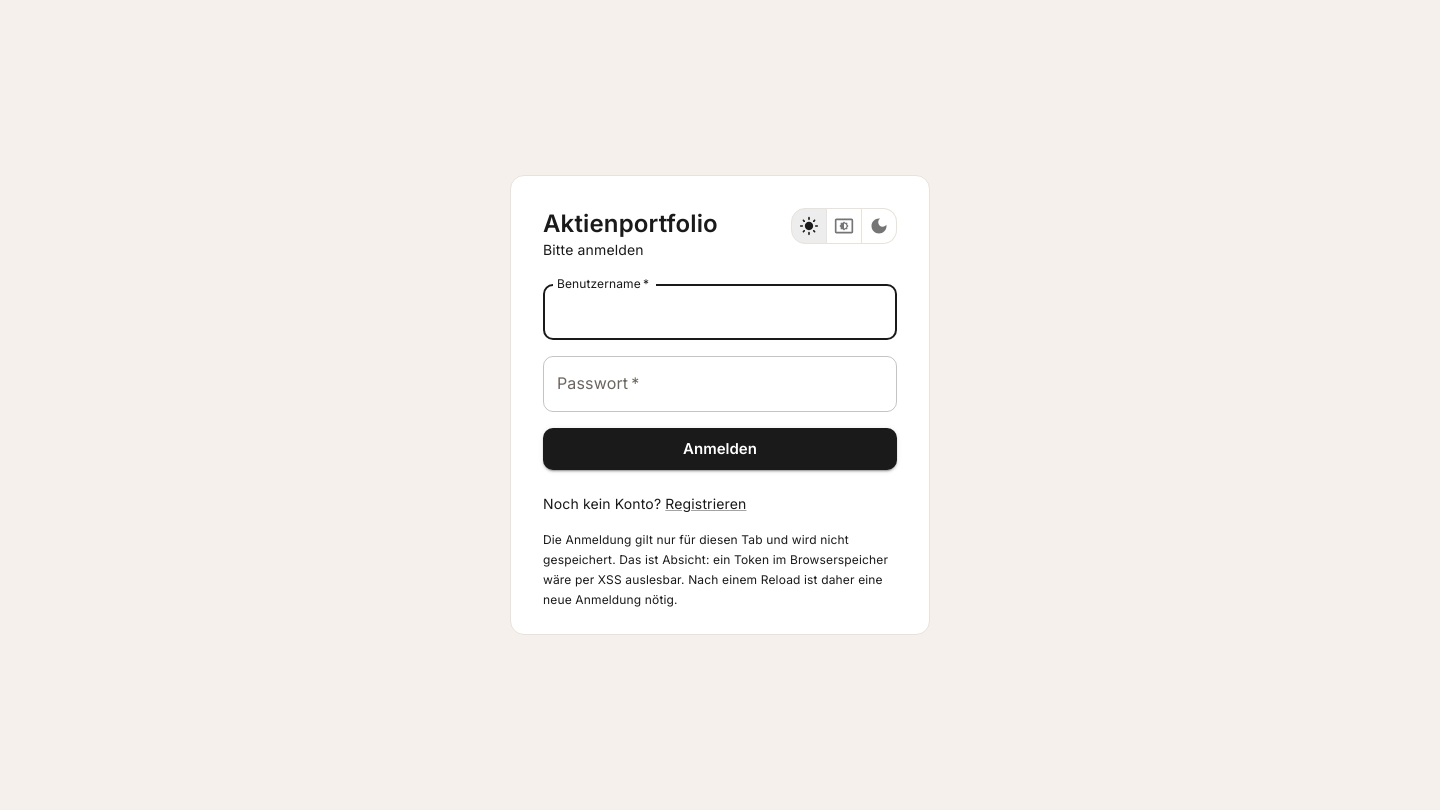
Telefon › führt die Navigation hinter einem Hamburger-Knopf
The width and height of the screenshot is (1440, 810).
In the field labelled "Benutzername *": {"x": 720, "y": 312} x1=543 y1=284 x2=897 y2=340, type "demo"
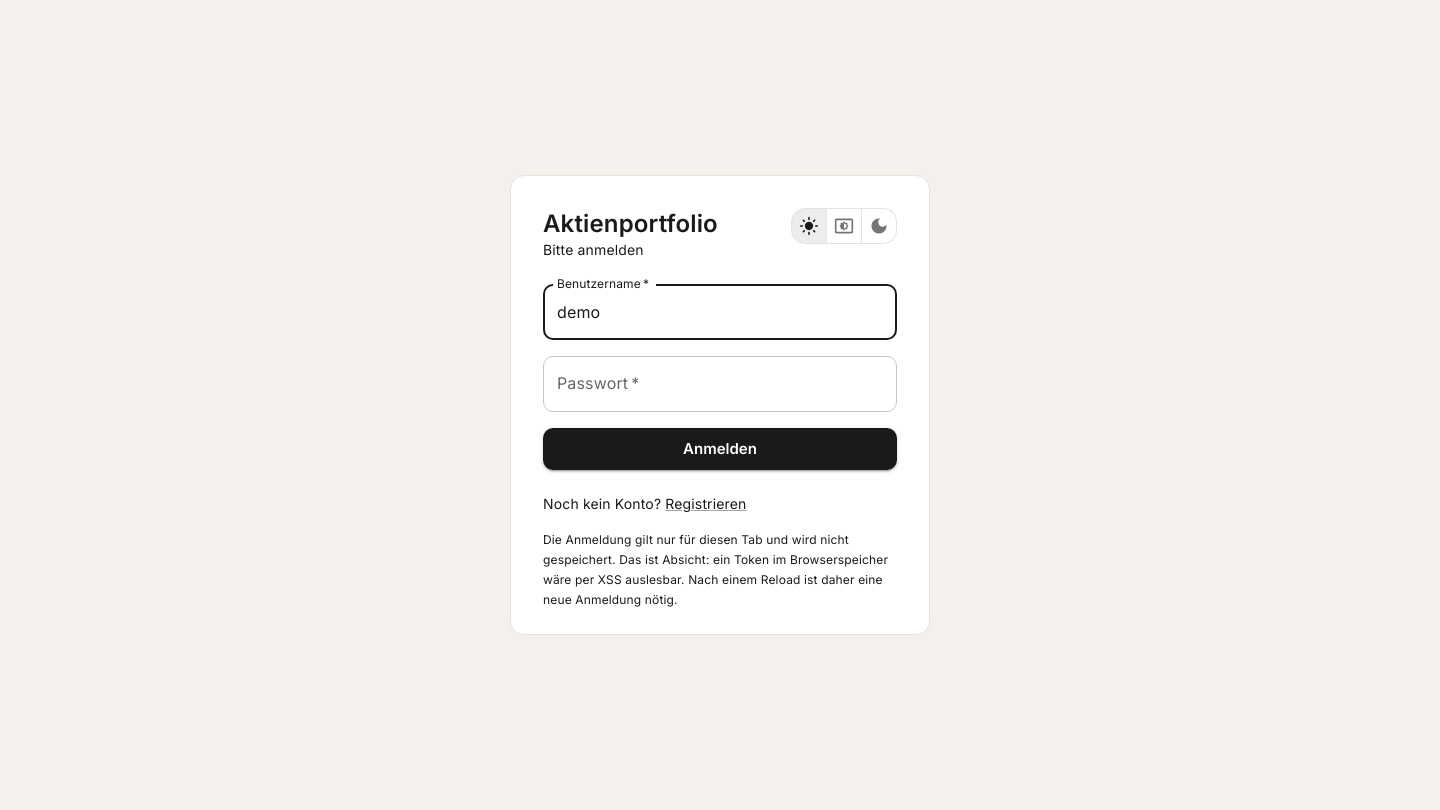
In the password field labelled "Passwort *": {"x": 720, "y": 384} x1=543 y1=356 x2=897 y2=412, type "demo1234"
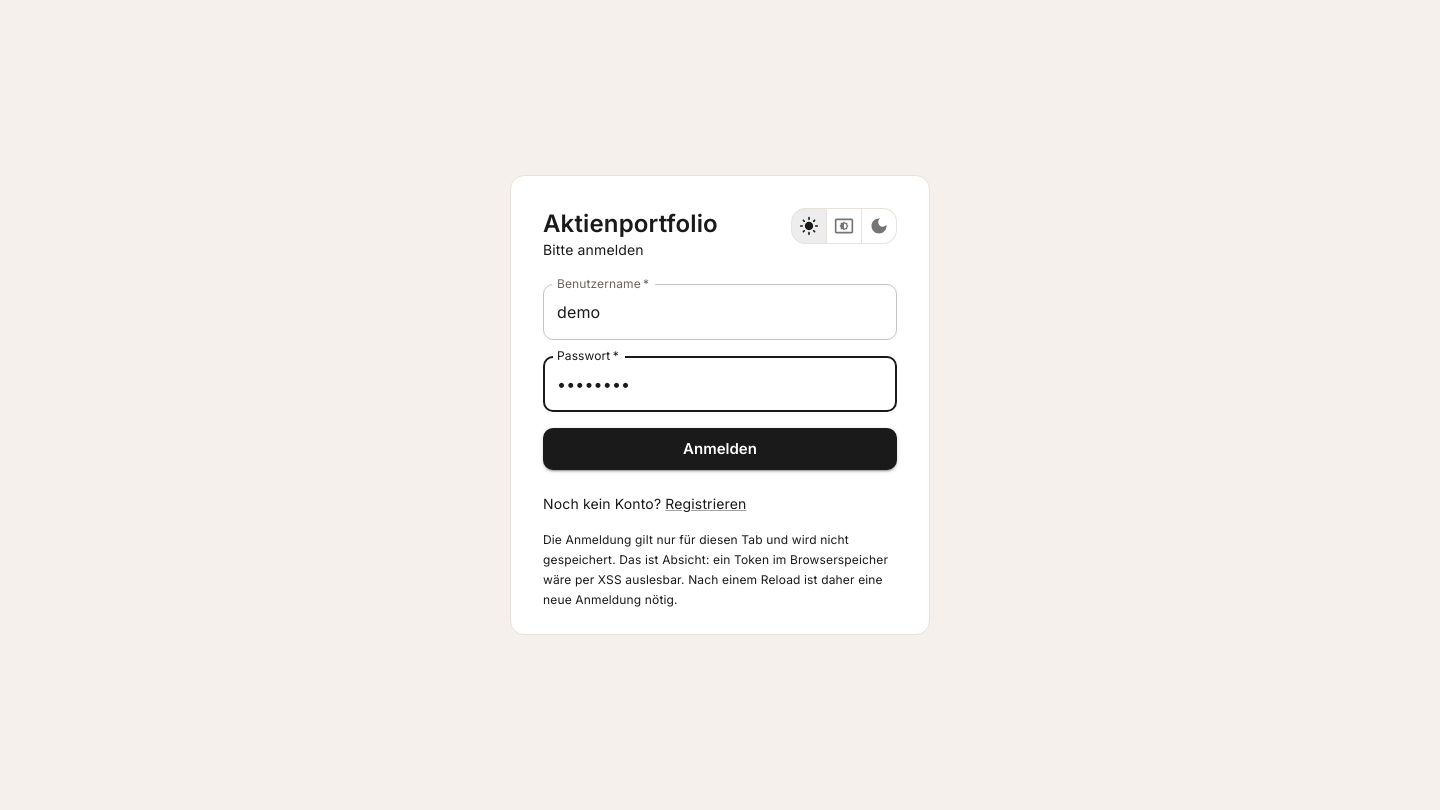
Click the button "Anmelden": {"x": 720, "y": 449} x1=543 y1=428 x2=897 y2=470
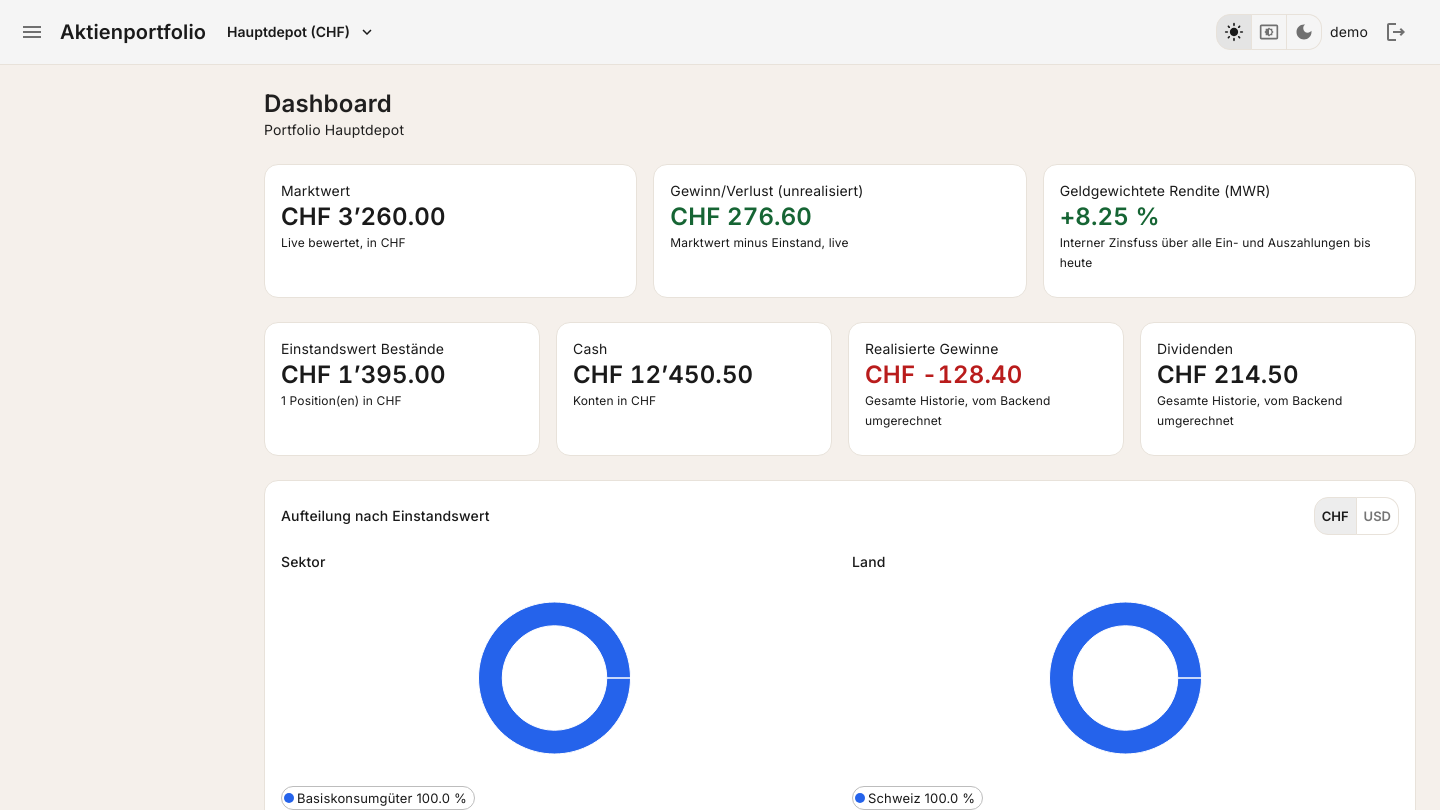
Expected: the button named "Abmelden" is shown, x1=1376 y1=12 x2=1416 y2=52
Expected: the button named "Navigation öffnen" is shown
Click the button named "Navigation öffnen": {"x": 32, "y": 32} x1=12 y1=12 x2=52 y2=52
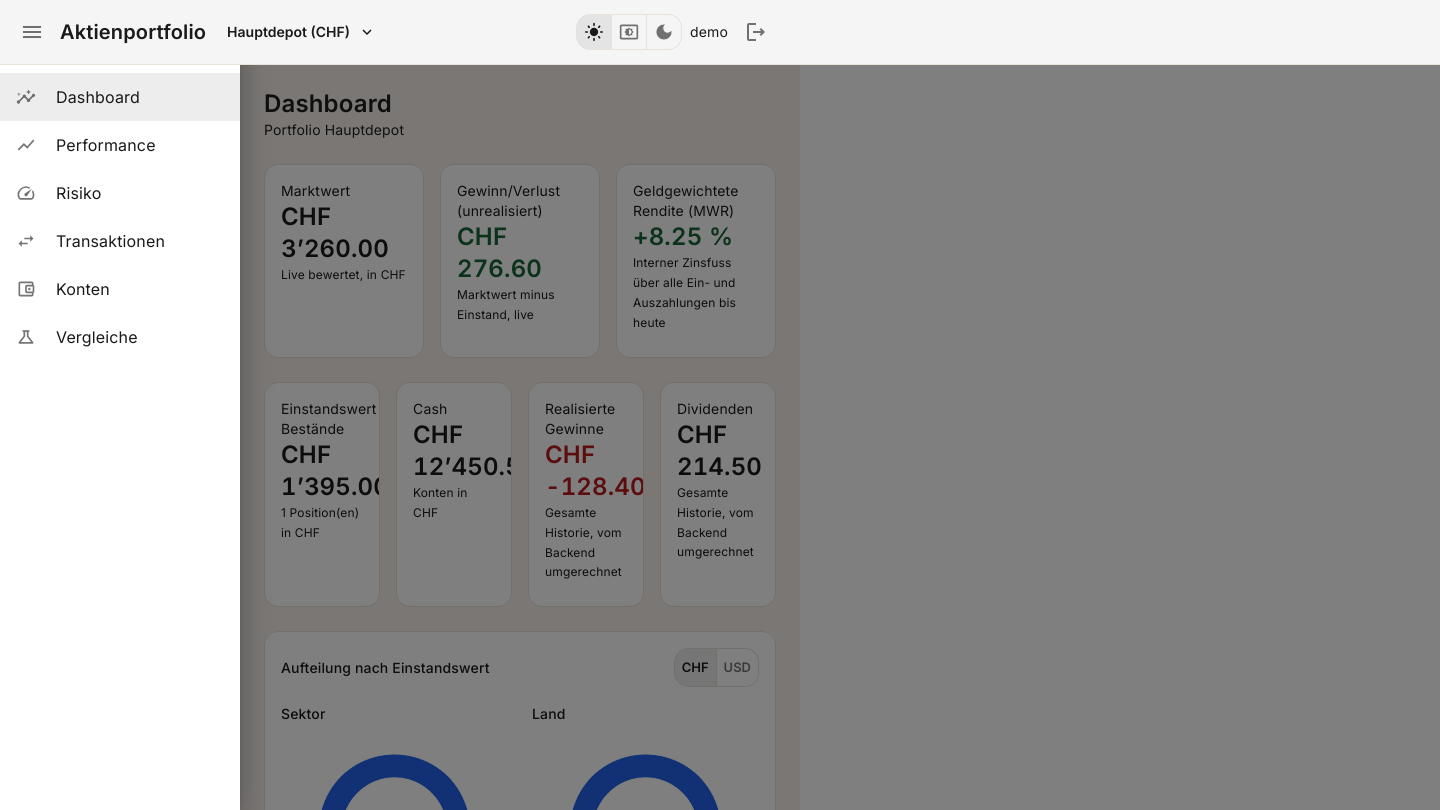
Click the link "Konten": {"x": 63, "y": 289} x1=16 y1=279 x2=110 y2=299
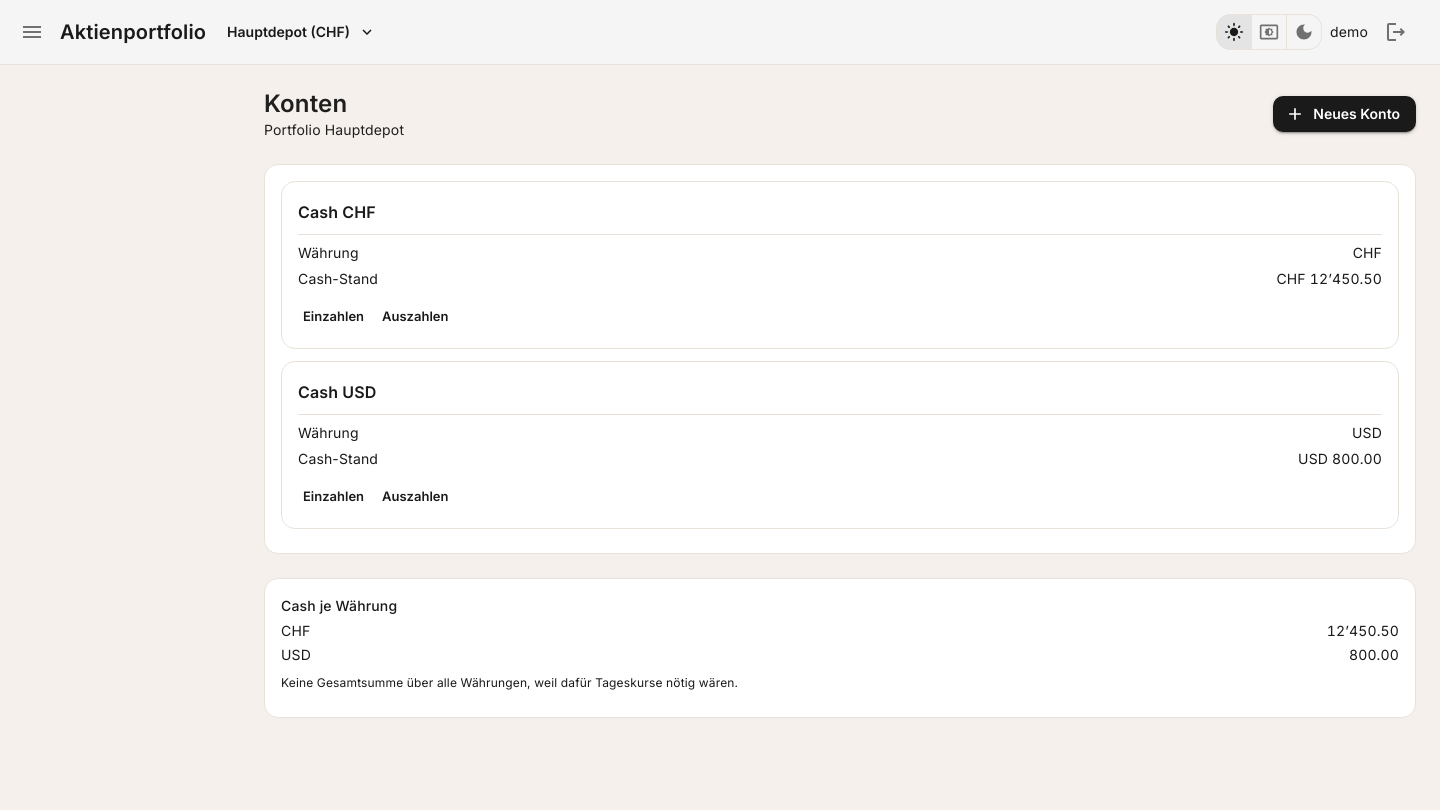
Expected: the heading "Konten" is shown, x1=264 y1=89 x2=347 y2=118
